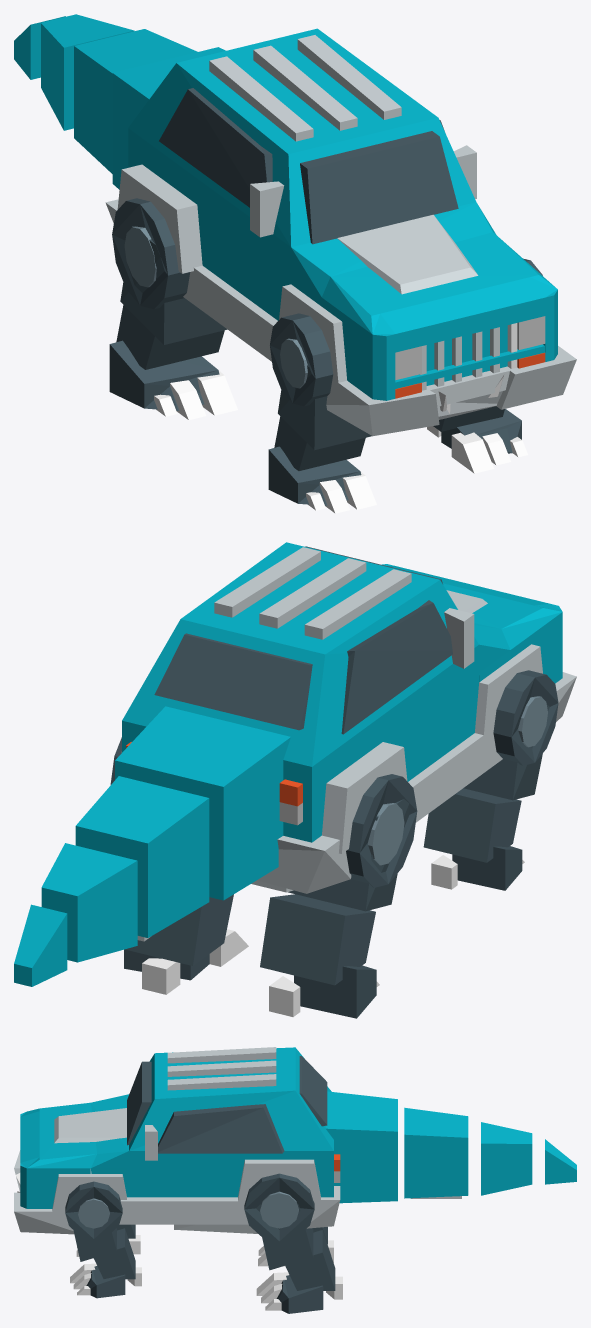
3 renders of one model, top to bottom at view 1: azimuth 30°, elevation 25°; view 2: azimuth 150°, elevation 25°; view 3: azimuth 270°, elevation 25°, orthographic. The views are drawn at different scales.
Parts seen in each view (by area): view 1: mesh_806047933, mesh_247322691, mesh_1768201262, group_773448419, mesh_302867006, mesh_1395231522, mesh_1766585733, group_2107833641, group_1030103782, group_49068896, group_858995499, mesh_457558533 (+26 smaller); view 2: mesh_806047933, group_565524974, group_773448419, mesh_231661385, group_257624286, mesh_15466328, mesh_302867006, group_1030103782, mesh_1525382234, group_49068896, mesh_1768201262, group_2107833641 (+17 smaller); view 3: mesh_806047933, group_565524974, group_773448419, mesh_509881894, mesh_1768201262, group_664529727, mesh_1713040283, group_257624286, group_980840672, group_1831415227, mesh_1766585733, mesh_2013856534 (+19 smaller).
Boxes of the visible parts, bbox=[...] form: mesh_806047933: bbox=[128, 28, 476, 320]; mesh_247322691: bbox=[300, 131, 458, 244]; mesh_1768201262: bbox=[321, 232, 556, 398]; group_773448419: bbox=[74, 29, 197, 173]; mesh_302867006: bbox=[159, 88, 272, 207]; mesh_1395231522: bbox=[380, 277, 545, 352]; mesh_1766585733: bbox=[337, 214, 478, 294]; group_2107833641: bbox=[109, 340, 237, 419]; group_1030103782: bbox=[112, 198, 190, 309]; group_49068896: bbox=[270, 313, 333, 406]; group_858995499: bbox=[268, 446, 376, 513]; mesh_457558533: bbox=[291, 202, 496, 306]; mesh_806047933: bbox=[122, 542, 480, 842]; group_565524974: bbox=[115, 706, 290, 900]; group_773448419: bbox=[75, 776, 209, 941]; mesh_231661385: bbox=[154, 633, 312, 730]; group_257624286: bbox=[41, 843, 137, 962]; mesh_15466328: bbox=[260, 894, 375, 985]; mesh_302867006: bbox=[341, 600, 452, 734]; group_1030103782: bbox=[346, 774, 417, 887]; mesh_1525382234: bbox=[423, 788, 521, 862]; group_49068896: bbox=[493, 670, 558, 765]; mesh_1768201262: bbox=[443, 583, 562, 683]; group_2107833641: bbox=[269, 965, 379, 1018]; mesh_806047933: bbox=[125, 1047, 333, 1197]; group_565524974: bbox=[325, 1091, 397, 1203]; group_773448419: bbox=[404, 1107, 468, 1198]; mesh_509881894: bbox=[158, 1104, 284, 1153]; mesh_1768201262: bbox=[26, 1102, 96, 1208]; group_664529727: bbox=[244, 1173, 314, 1241]; mesh_1713040283: bbox=[119, 1197, 248, 1224]; group_257624286: bbox=[481, 1122, 532, 1195]; group_980840672: bbox=[65, 1181, 122, 1238]; group_1831415227: bbox=[256, 1272, 342, 1313]; mesh_1766585733: bbox=[54, 1108, 126, 1143]; mesh_2013856534: bbox=[238, 1159, 320, 1201].
Size of the model in its own units: 27.56 by 37.06 by 88.
